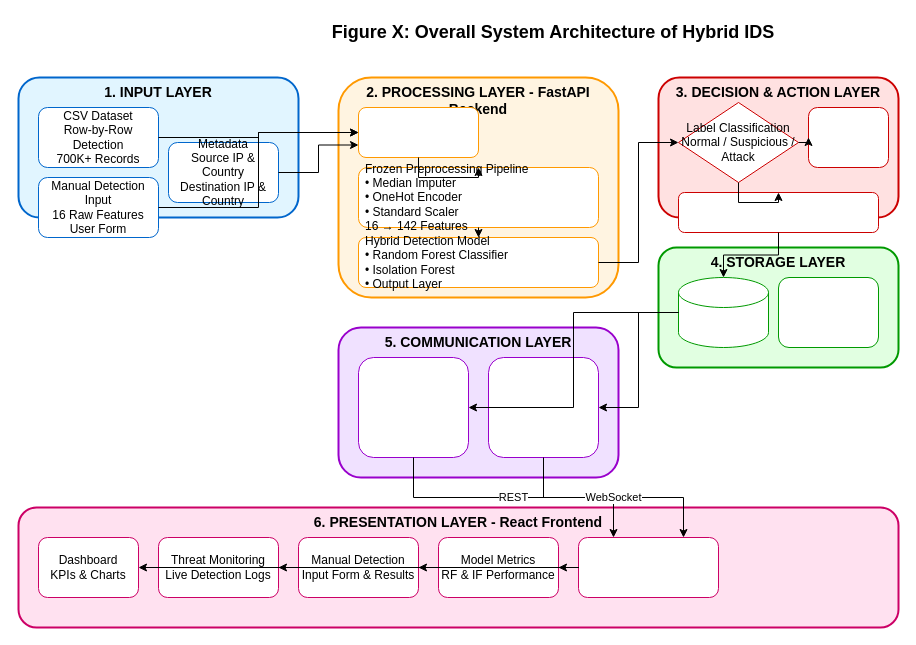
Image size: 916x645. Some labels were removed from this diagram. The centre of each missing label's shape, as x and y in pixels:
"Auto-Blocking Logic Attack Only" belongs at (778,212).
"Dataset Iterator / Manual Handler" belongs at (418,132).
"REST APIs • /monitor/start • /monitor/stop • /detect/manual • /history/*" belongs at (413,407).
"Severity, Confidence, Risk Score Computation" belongs at (848,137).
"SQLite Database ids_history.db" belongs at (723,312).
"WebSocket Events Socket.IO • stats_update • detection_event • blocked_event" belongs at (543,407).
"Zustand Store Global State Management" belongs at (648,567).
"• Detection History • Manual Detection History • Blocked Threats" belongs at (828,312).
